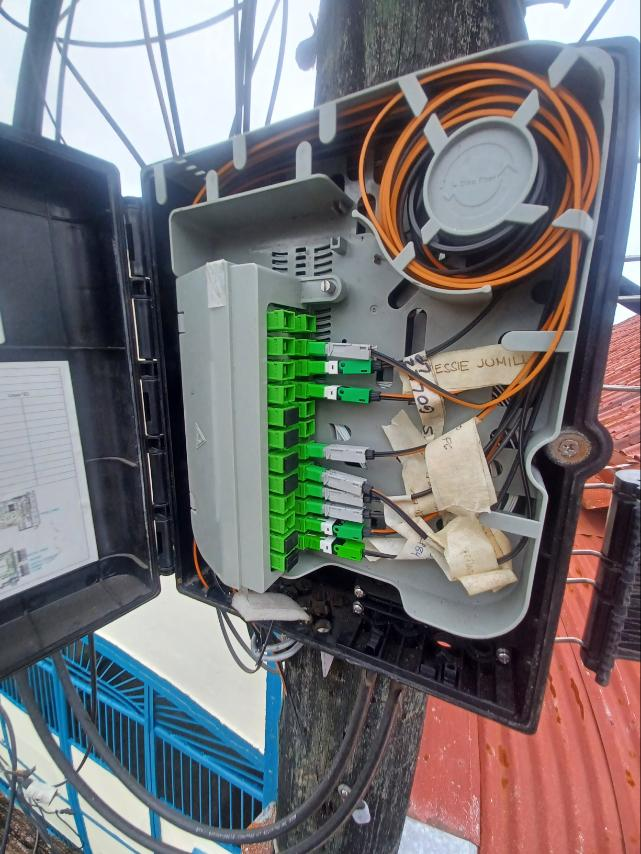no dust cap: (281, 362, 295, 381), (284, 511, 295, 534), (282, 337, 295, 355), (284, 492, 295, 513), (283, 311, 295, 330), (283, 385, 295, 403), (304, 315, 316, 331), (306, 419, 315, 436), (306, 400, 315, 417)
occupied: (305, 464, 378, 498), (306, 443, 382, 468), (306, 383, 388, 406), (304, 536, 368, 563), (307, 356, 383, 378), (304, 519, 370, 544), (306, 484, 374, 507), (305, 502, 372, 525), (307, 341, 381, 360)
vacant: (285, 532, 299, 554), (285, 473, 298, 495), (285, 408, 300, 426), (285, 453, 298, 473), (287, 550, 298, 573), (286, 429, 299, 448)
